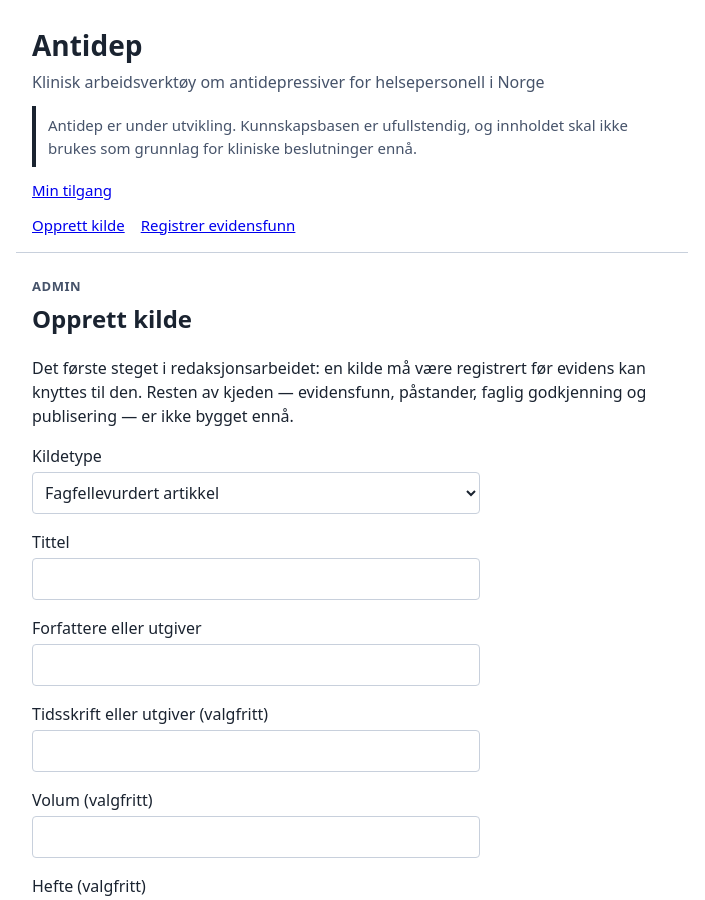
it: Opprett kilde — innlogget, ingen rollegate i klienten › kildetypen vises med norsk etikett, men sendes som den kanoniske verdien
This screenshot has width=705, height=900.
Expected: the field labelled "Tittel" is shown, [32,558,480,600]
Select "Preparatomtale (SPC)" in the dropdown labelled "Kildetype" at {"x": 256, "y": 493}, box [32,472,480,514]
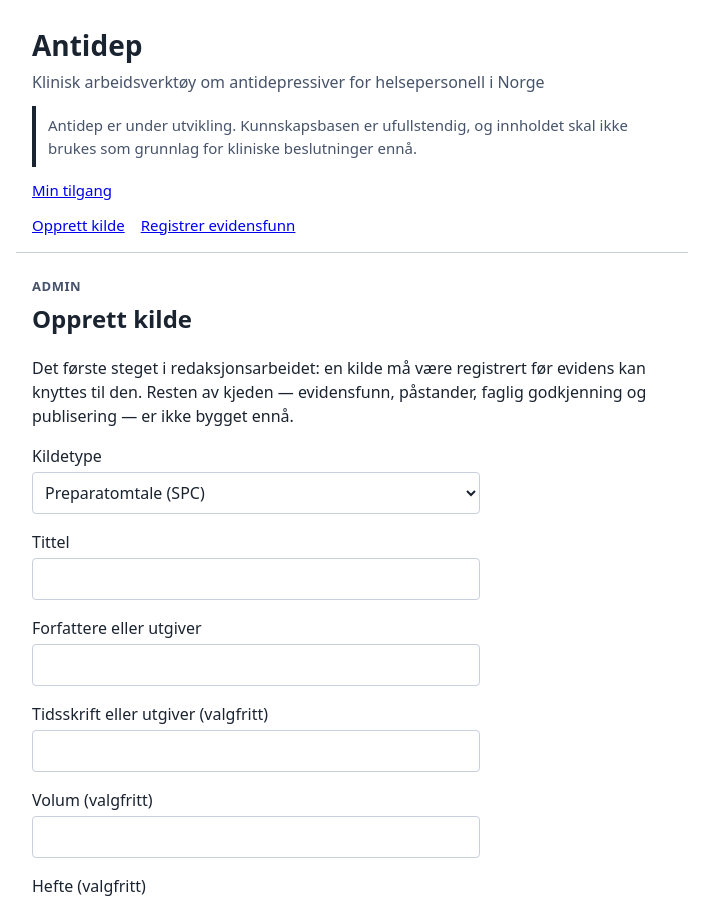
Type "Testkilde fra skjema" into the field labelled "Tittel".
click(256, 579); type("Testkilde fra skjema")  # box [32,558,480,600]
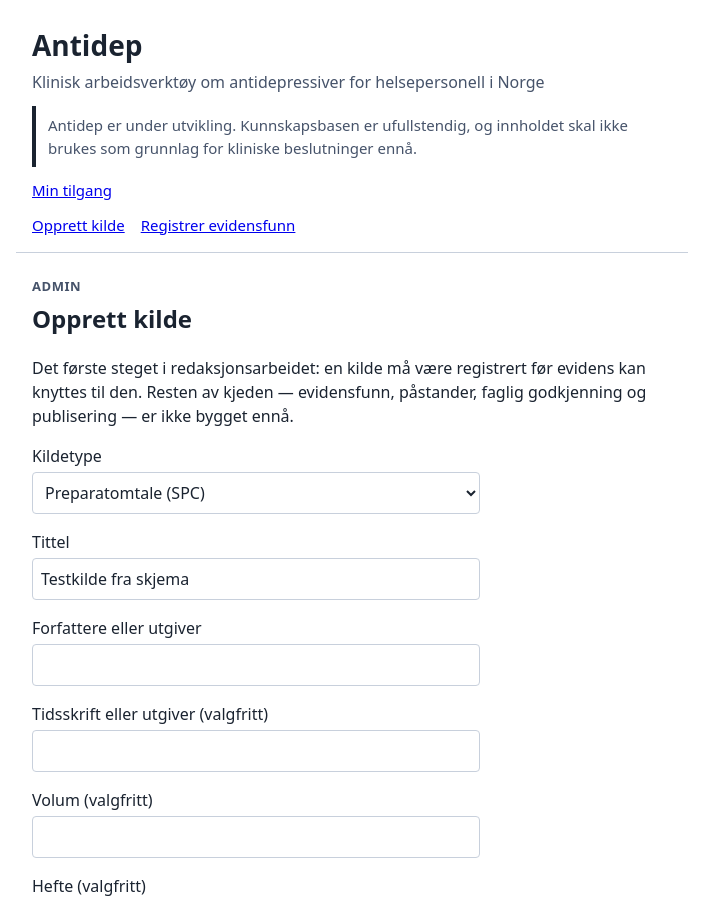
Type "Testforfatter" into the field labelled "Forfattere eller utgiver".
click(256, 665); type("Testforfatter")  # box [32,644,480,686]
(page scrolled)
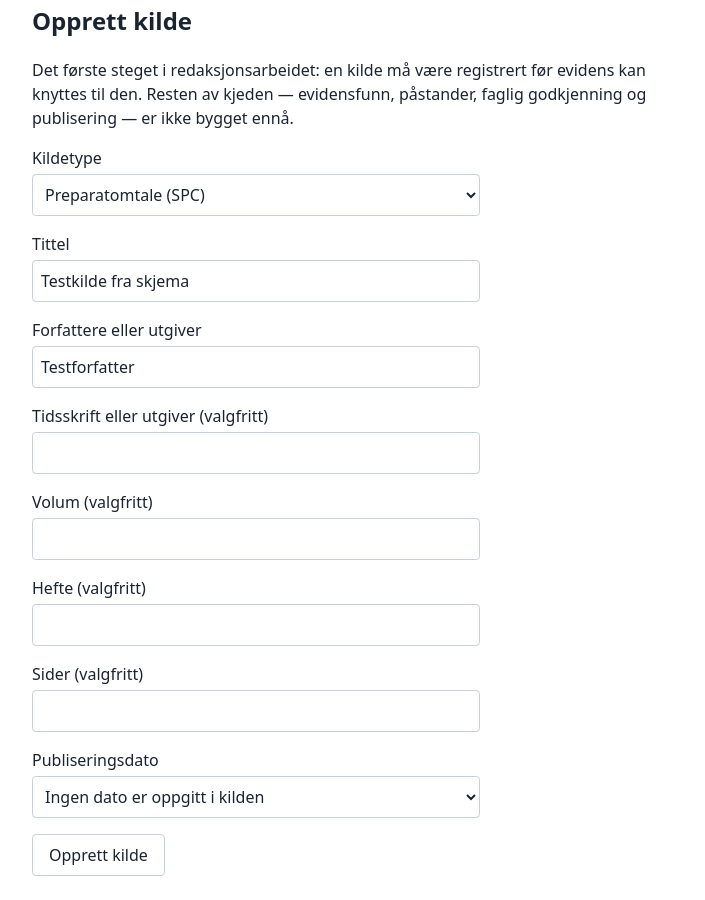
Click the button "Opprett kilde".
click(98, 855)  # box [32,834,165,876]
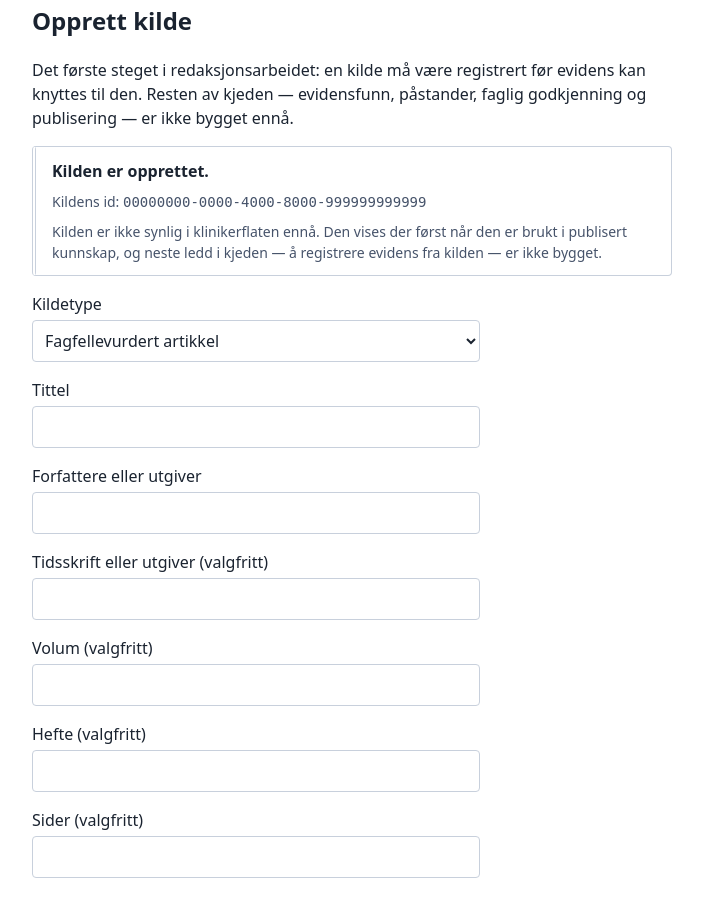
Result: the text "Kilden er opprettet." is shown at [52,160,209,182]
